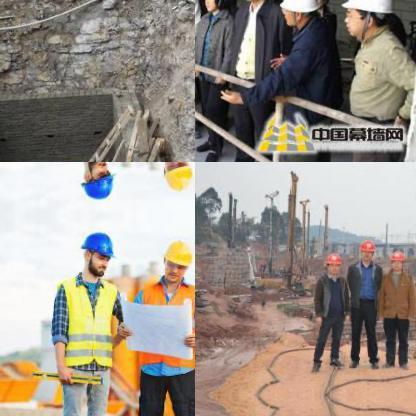Helmet: (337, 0, 391, 40), (76, 225, 116, 277), (158, 233, 194, 286), (76, 162, 116, 204), (158, 162, 195, 197), (280, 0, 317, 27), (356, 236, 376, 262), (324, 250, 342, 274), (388, 248, 406, 272), (199, 0, 229, 13), (311, 0, 330, 10)
